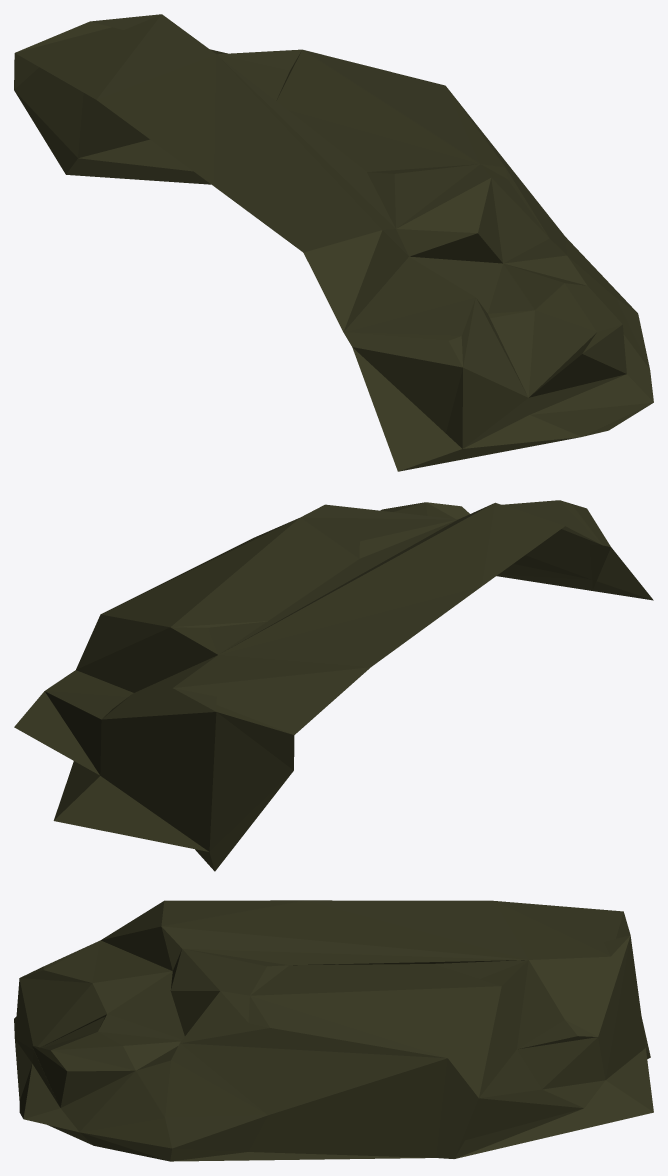
The model's file is shore-ledge.lod2.glb.
3 views of the same model, one above another, from view 1: azimuth 30°, elevation 25°; view 2: azimuth 150°, elevation 25°; view 3: azimuth 270°, elevation 25° (orthographic). The views are drawn at different scales.
Parts seen in each view (by area): view 1: cliff_lp_cliff_0; view 2: cliff_lp_cliff_0; view 3: cliff_lp_cliff_0.
Boxes of the visible parts, x1,y1,x2,y2 form: cliff_lp_cliff_0: (14,14,653,471); cliff_lp_cliff_0: (14,500,653,871); cliff_lp_cliff_0: (14,900,653,1161).
Bounding box in the file's own units: 8.79 × 4.17 × 18.04.
